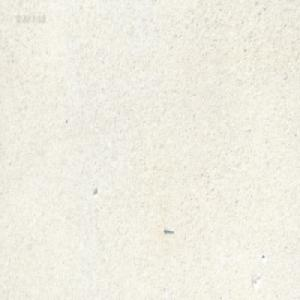Nail: (163, 226, 173, 233)
